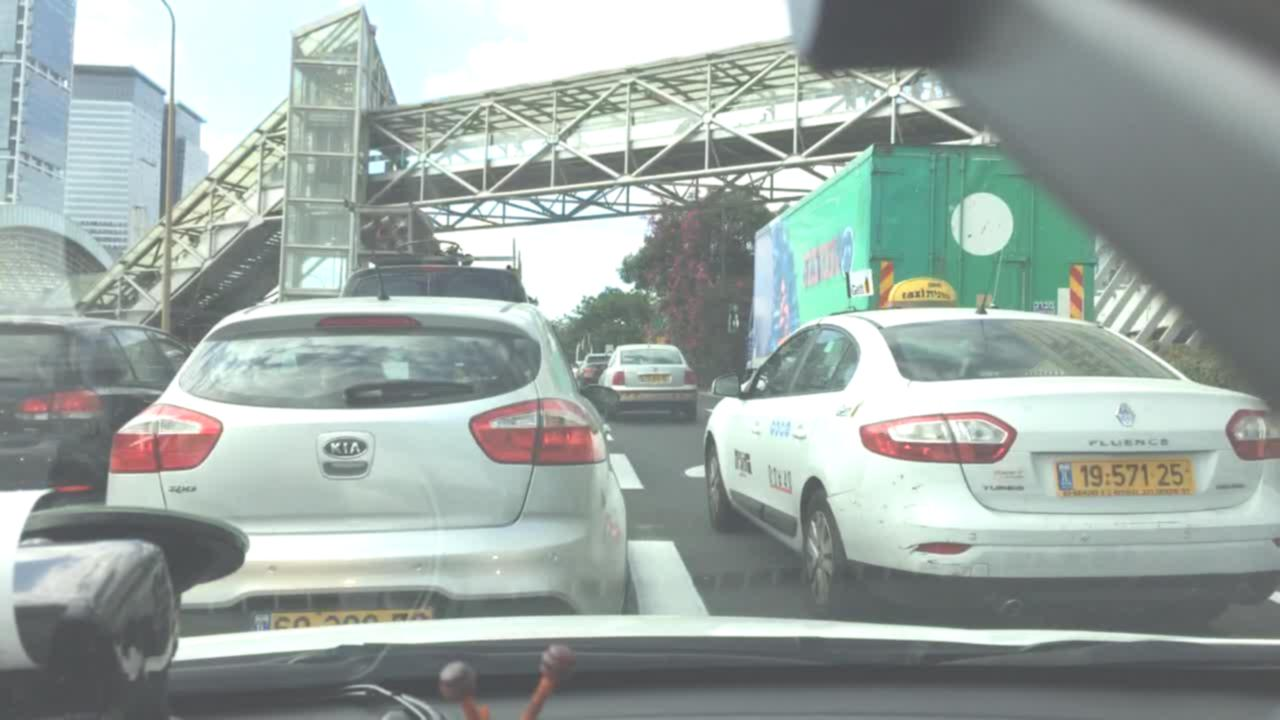Renault: (1109, 399, 1140, 431)
kia: (318, 428, 382, 466)
